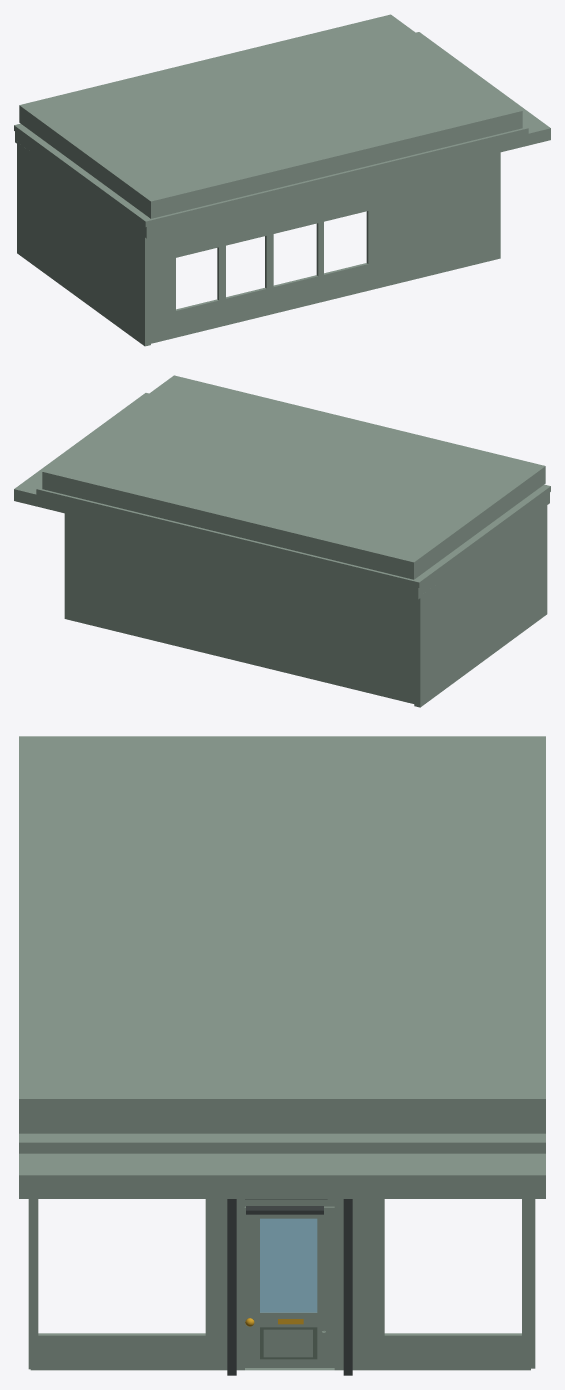
The model's file is fachada.obj.
3 views of the same model, one above another, from view 1: azimuth 30°, elevation 25°; view 2: azimuth 150°, elevation 25°; view 3: azimuth 270°, elevation 25° (orthographic). The views are drawn at different scales.
Parts seen in each view (by area): view 1: fachada; view 2: fachada; view 3: fachada.
Part boxes in pixels (bbox=[...]): fachada: bbox=[14, 14, 550, 346]; fachada: bbox=[14, 375, 550, 707]; fachada: bbox=[19, 736, 545, 1375].
Size of the model in its own units: 88.37 by 30.34 by 49.76.
6 materials, 5 textured.
